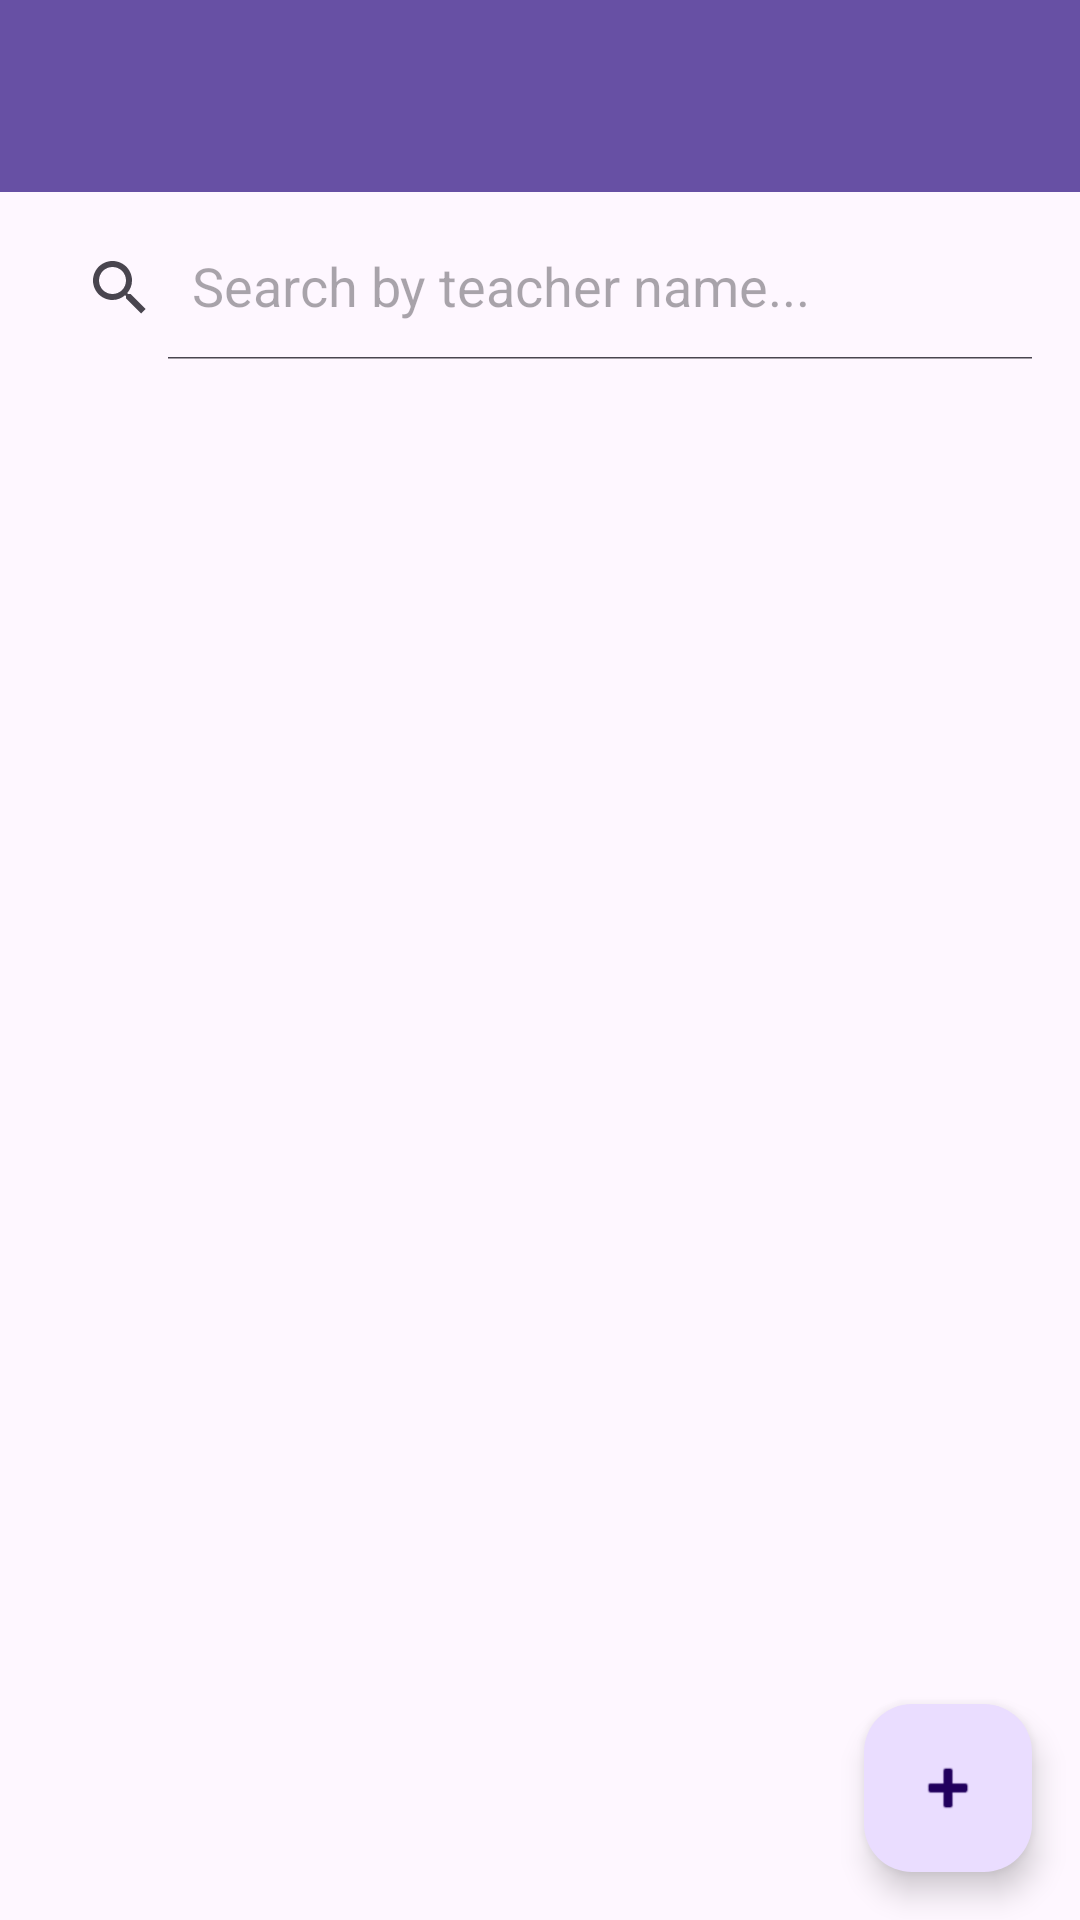

Point at icon controls on the screen. Image size 1080×1920, points as [x,y].
Add New Course: [948,1788]
